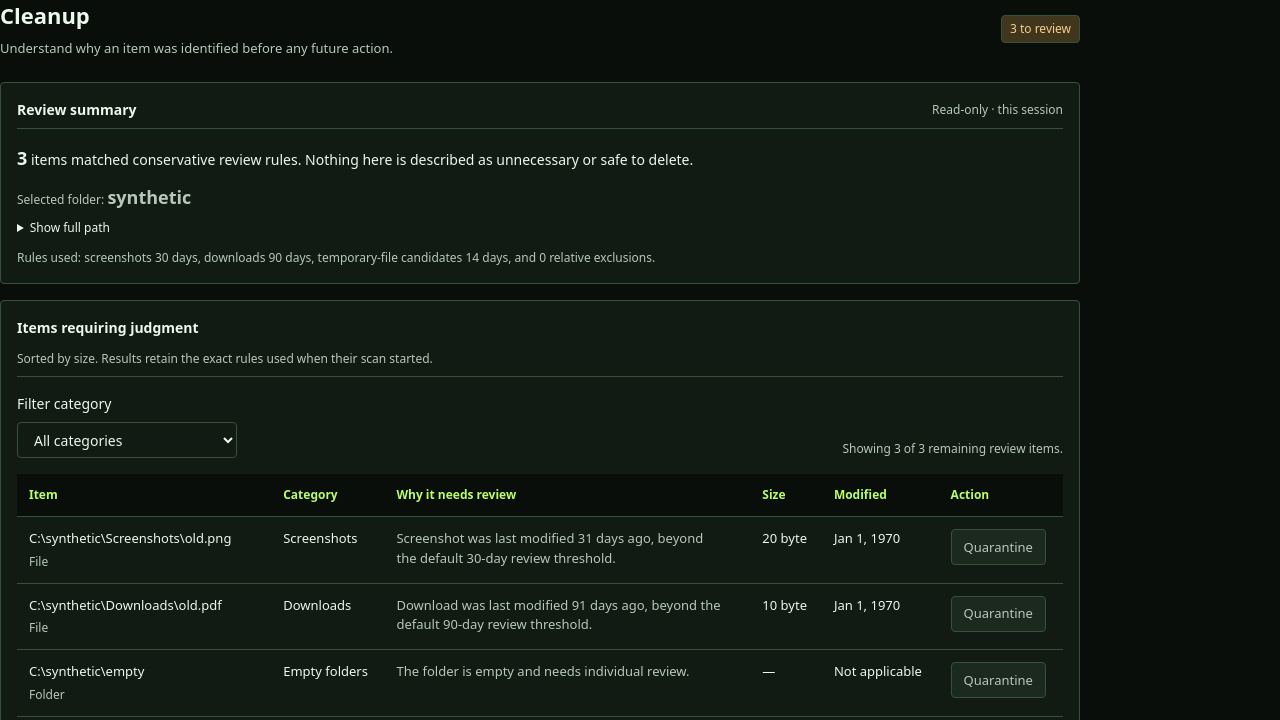
it: cleanup review › filters review candidates by category
Select "Downloads" in the dropdown labelled "Filter category" at (127, 440), box [17,422,237,458]
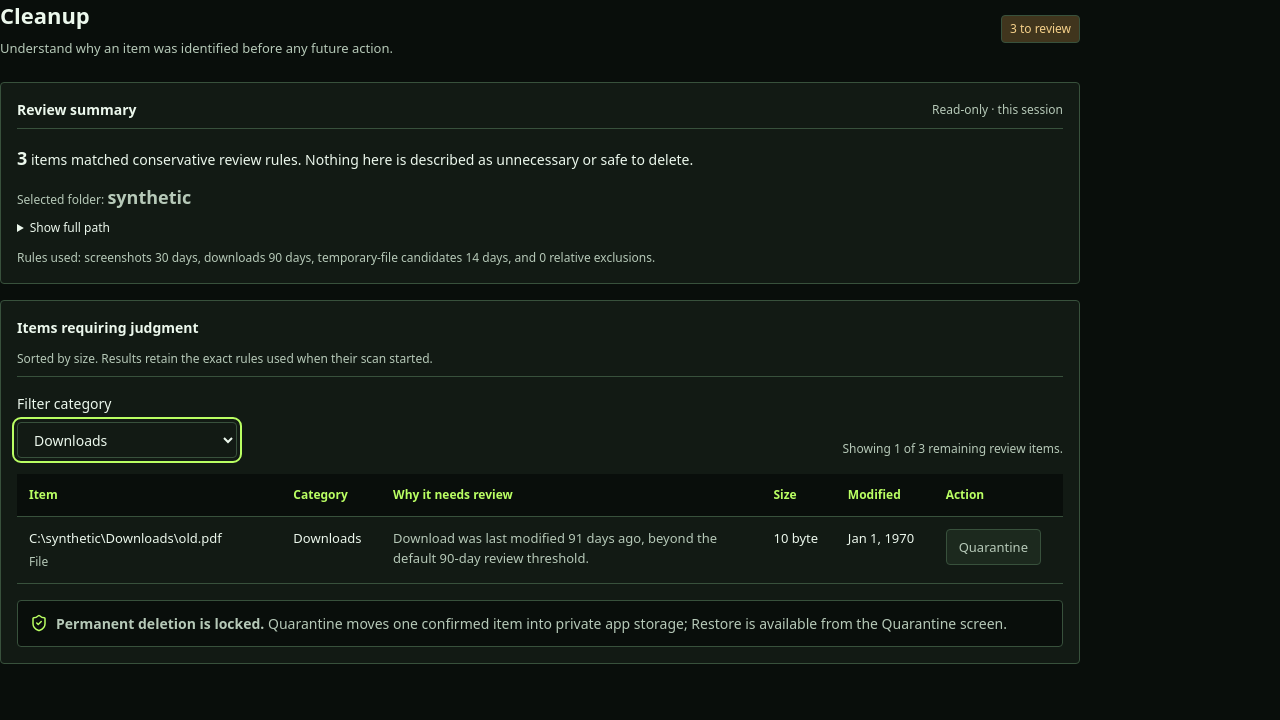
expect the text "C:\\synthetic\\Downloads\\old.pdf" is shown: met, box [29,529,222,547]
expect the text "C:\\synthetic\\Screenshots\\old.png" is gone: met
